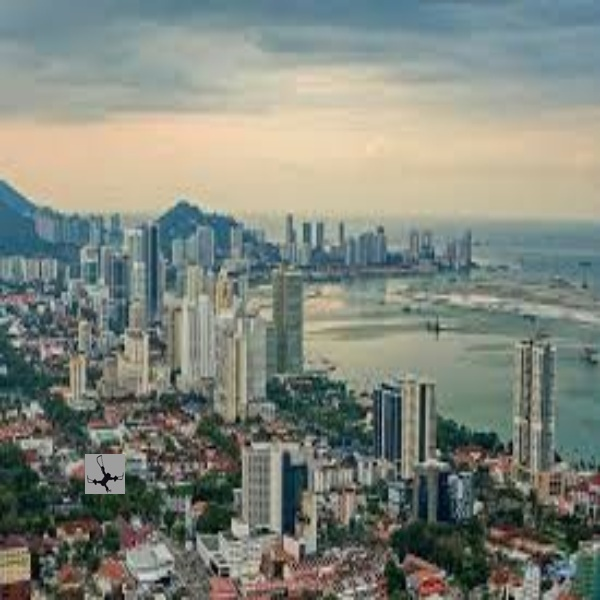drone: (84, 453, 125, 490)
